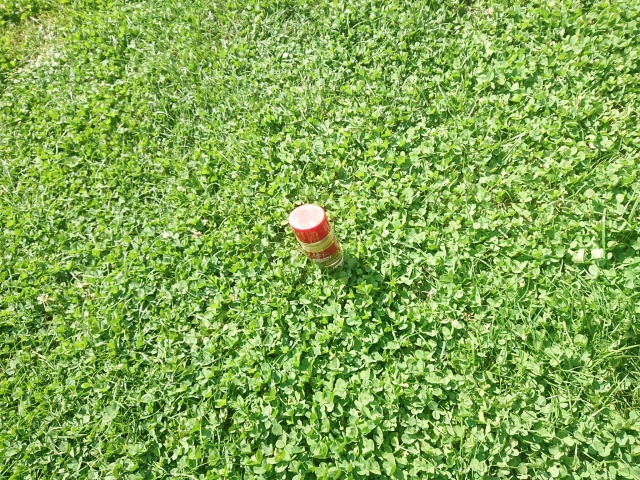Kotanyi Curry Spices Mix 70g: (287, 201, 345, 277)
